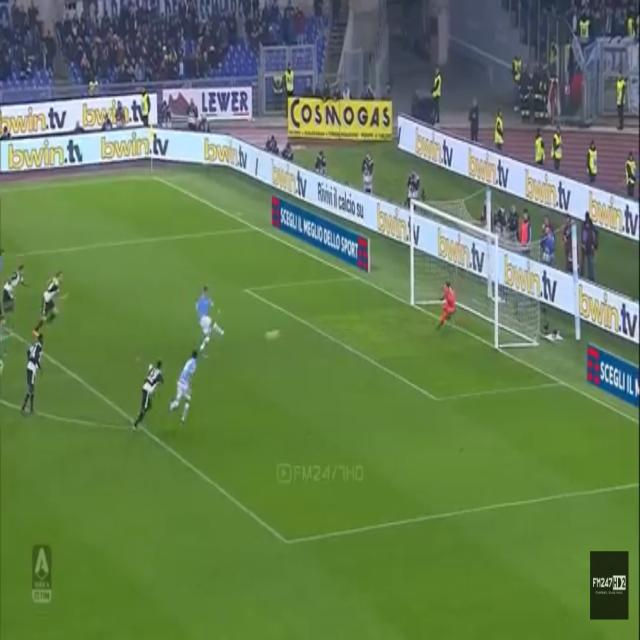left-top: (412, 201, 455, 221)
soccer-goal: (413, 200, 497, 349)
